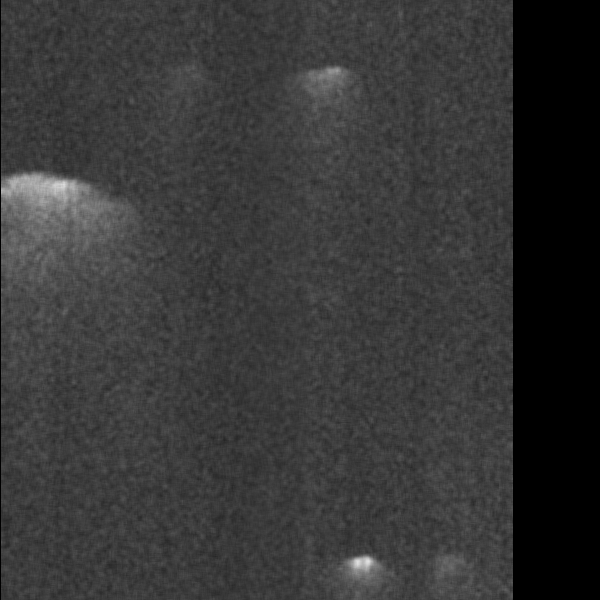spark: (186, 216, 234, 272), (183, 385, 240, 423), (196, 131, 225, 169), (197, 67, 228, 100)
